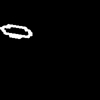chain: (0, 24, 31, 38)
